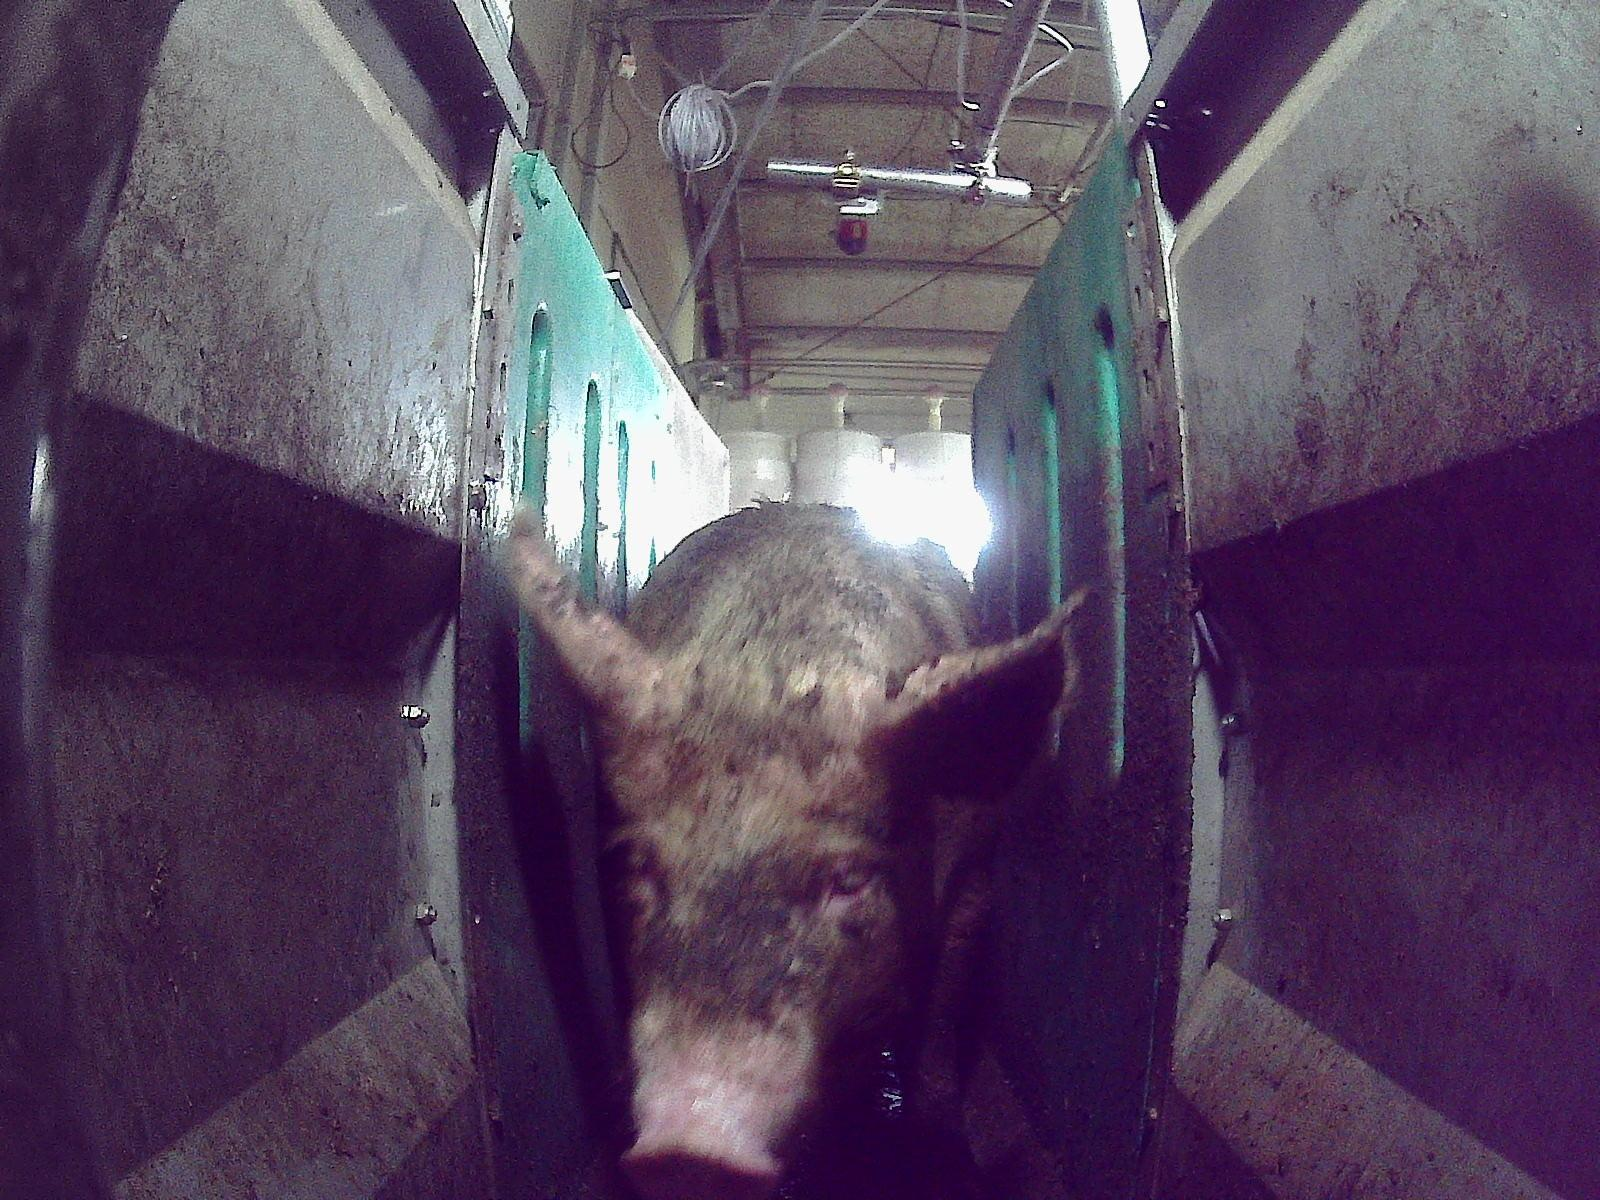Face: (592, 690, 926, 1199)
